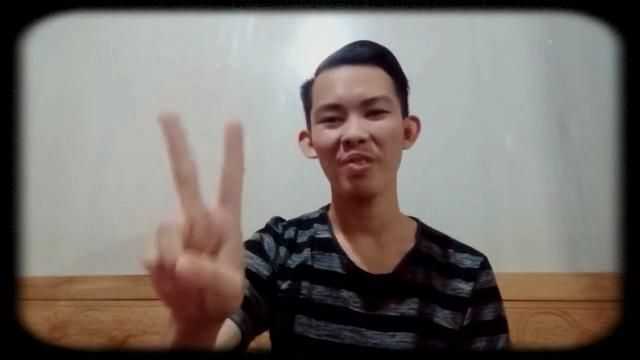V: (124, 106, 248, 320)
